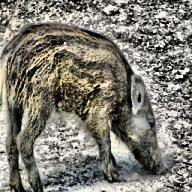boar: (0, 21, 168, 191)
